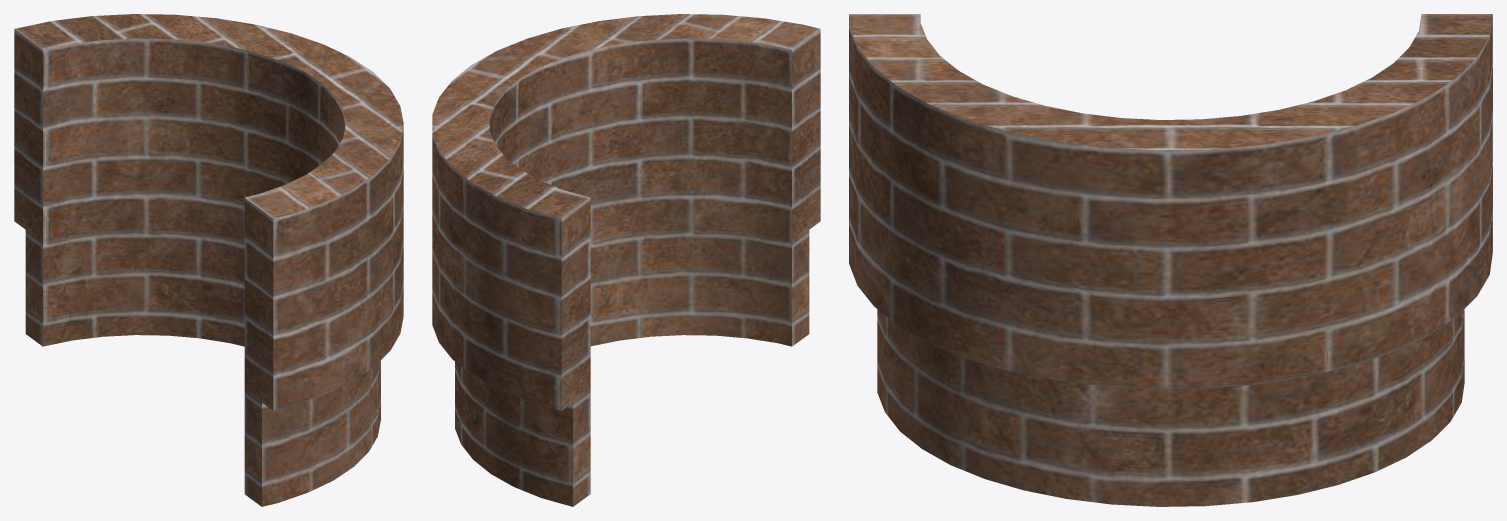
File: Joglo_part_328.fbx
3 renders of one model, left to right at view 1: azimuth 30°, elevation 25°; view 2: azimuth 150°, elevation 25°; view 3: azimuth 270°, elevation 25°, orthographic. The views are drawn at different scales.
Visible parts, largest first — view 1: Mesh388_Brick___Brown_0.001; view 2: Mesh388_Brick___Brown_0.001; view 3: Mesh388_Brick___Brown_0.001.
Boxes of the visible parts, box(x1,y1,x2,y2) form: Mesh388_Brick___Brown_0.001: box(14, 14, 403, 506); Mesh388_Brick___Brown_0.001: box(432, 14, 820, 506); Mesh388_Brick___Brown_0.001: box(849, 14, 1492, 506).
Bounding box in the file's own units: 17.76 × 22.38 × 35.42.
